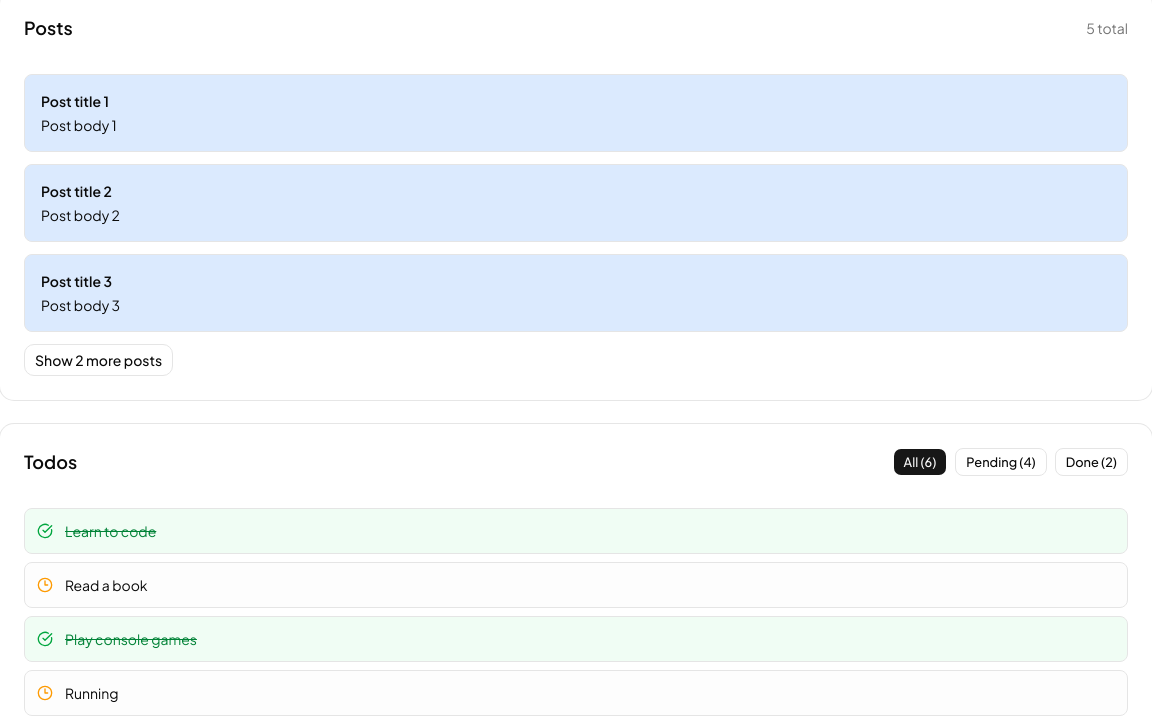
User Detail › posts section › shows more posts when button clicked
(page scrolled)
What coordinates should you click on to do the following:
click the button "Show 2 more posts"
I would click on:
 (99, 360)
Its box is [24, 344, 173, 376].
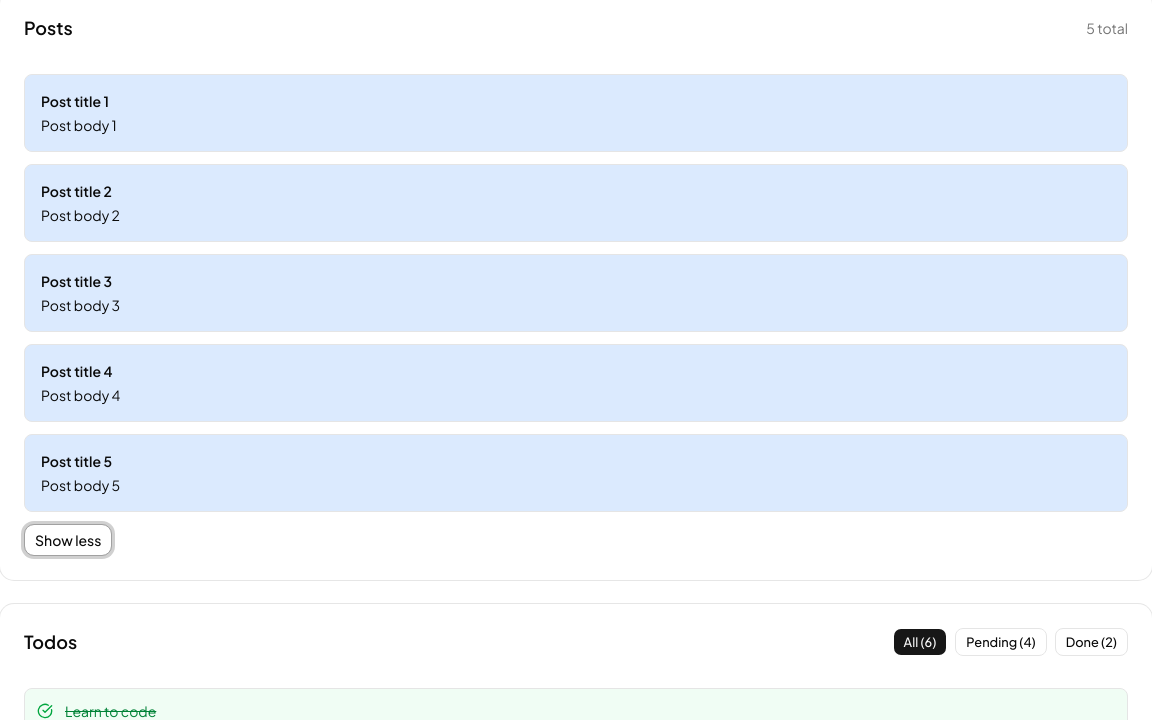
Now the heading "Post title 4" is shown, box [41, 362, 112, 380]
Now the heading "Post title 5" is shown, box [41, 452, 112, 470]
